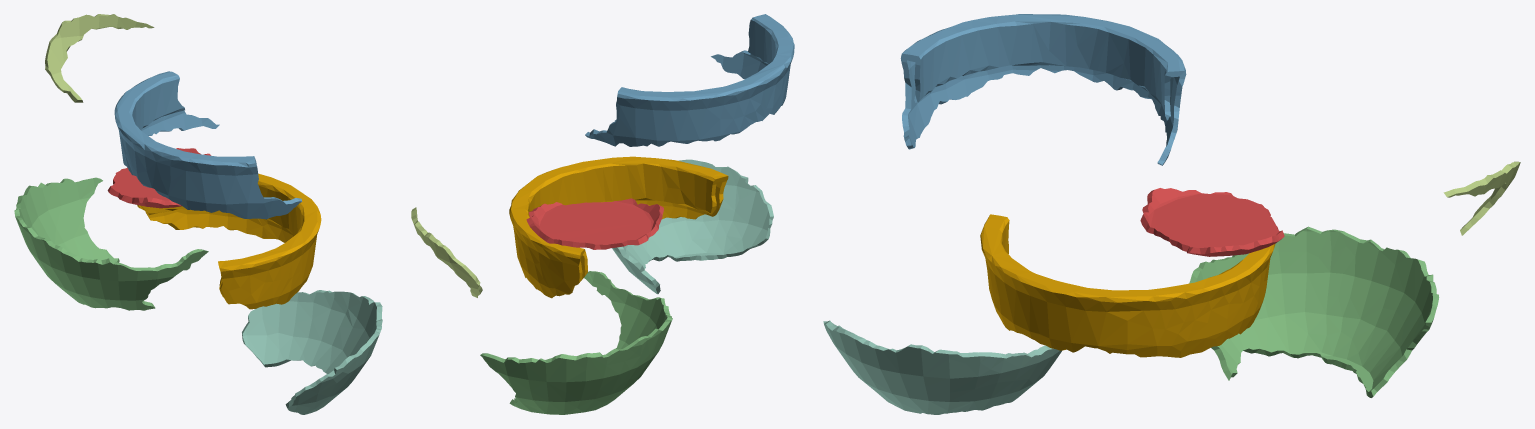
The model's file is mode_10_6pcs_transformed.glb.
3 renders of one model, left to right at view 1: azimuth 30°, elevation 25°; view 2: azimuth 150°, elevation 25°; view 3: azimuth 270°, elevation 25°, orthographic. The views are drawn at different scales.
Visible parts, largest first — view 1: piece_2.obj, piece_3.obj, piece_4.obj, piece_0.obj, piece_5.obj, piece_1.obj; view 2: piece_0.obj, piece_2.obj, piece_3.obj, piece_4.obj, piece_1.obj, piece_5.obj; view 3: piece_3.obj, piece_0.obj, piece_2.obj, piece_4.obj, piece_1.obj, piece_5.obj.
Part boxes in pixels (bbox=[...]): piece_2.obj: bbox=[114, 71, 302, 219]; piece_3.obj: bbox=[14, 177, 208, 310]; piece_4.obj: bbox=[242, 290, 382, 414]; piece_0.obj: bbox=[137, 173, 321, 309]; piece_5.obj: bbox=[45, 14, 154, 102]; piece_1.obj: bbox=[107, 148, 210, 208]; piece_0.obj: bbox=[509, 156, 728, 298]; piece_2.obj: bbox=[585, 14, 794, 146]; piece_3.obj: bbox=[480, 271, 672, 414]; piece_4.obj: bbox=[612, 159, 773, 294]; piece_1.obj: bbox=[526, 198, 663, 249]; piece_5.obj: bbox=[411, 207, 482, 297]; piece_3.obj: bbox=[1189, 226, 1439, 397]; piece_0.obj: bbox=[980, 214, 1275, 357]; piece_2.obj: bbox=[900, 14, 1186, 165]; piece_4.obj: bbox=[823, 320, 1061, 414]; piece_1.obj: bbox=[1140, 188, 1284, 256]; piece_5.obj: bbox=[1443, 161, 1520, 235].
Size of the model in its own units: 1 by 1.17 by 2.36.
